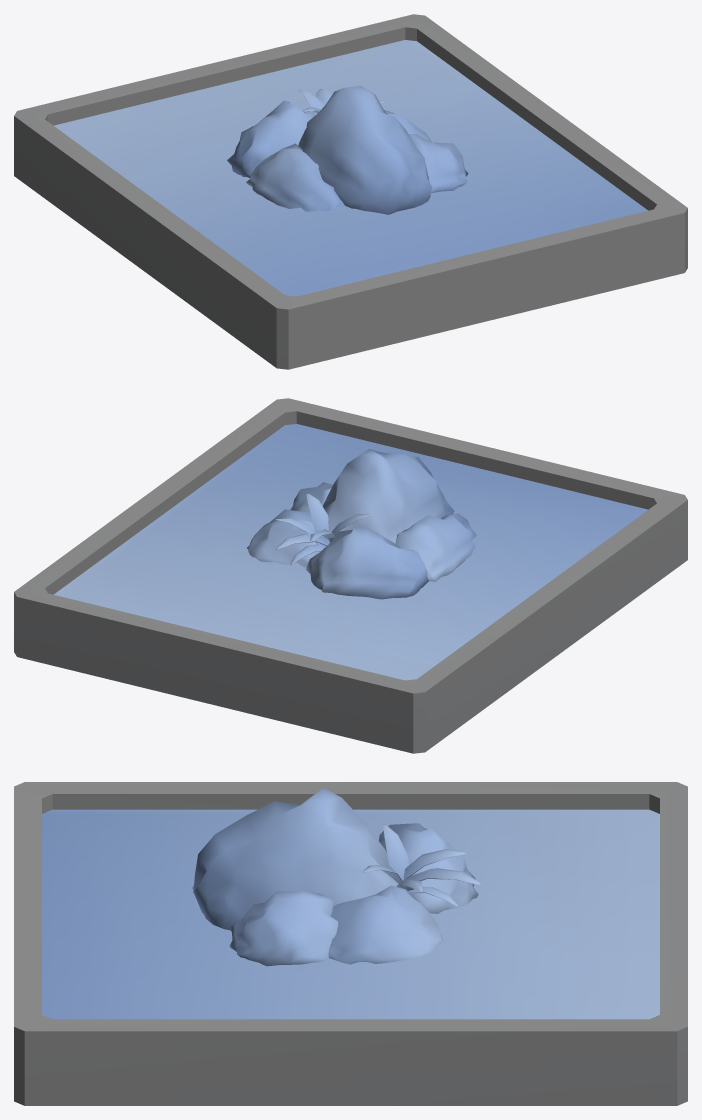
File: nelioistutus.fbx
3 renders of one model, top to bottom at view 1: azimuth 30°, elevation 25°; view 2: azimuth 150°, elevation 25°; view 3: azimuth 270°, elevation 25°, orthographic. The views are drawn at different scales.
Visible parts, largest first — view 1: nurmi_istutus; view 2: nurmi_istutus; view 3: nurmi_istutus.
Part boxes in pixels (x1,y1,x2,y2): nurmi_istutus: (14, 14, 687, 369); nurmi_istutus: (14, 398, 687, 753); nurmi_istutus: (14, 782, 687, 1105).
Size of the model in its own units: 35.93 by 12.26 by 41.07.
